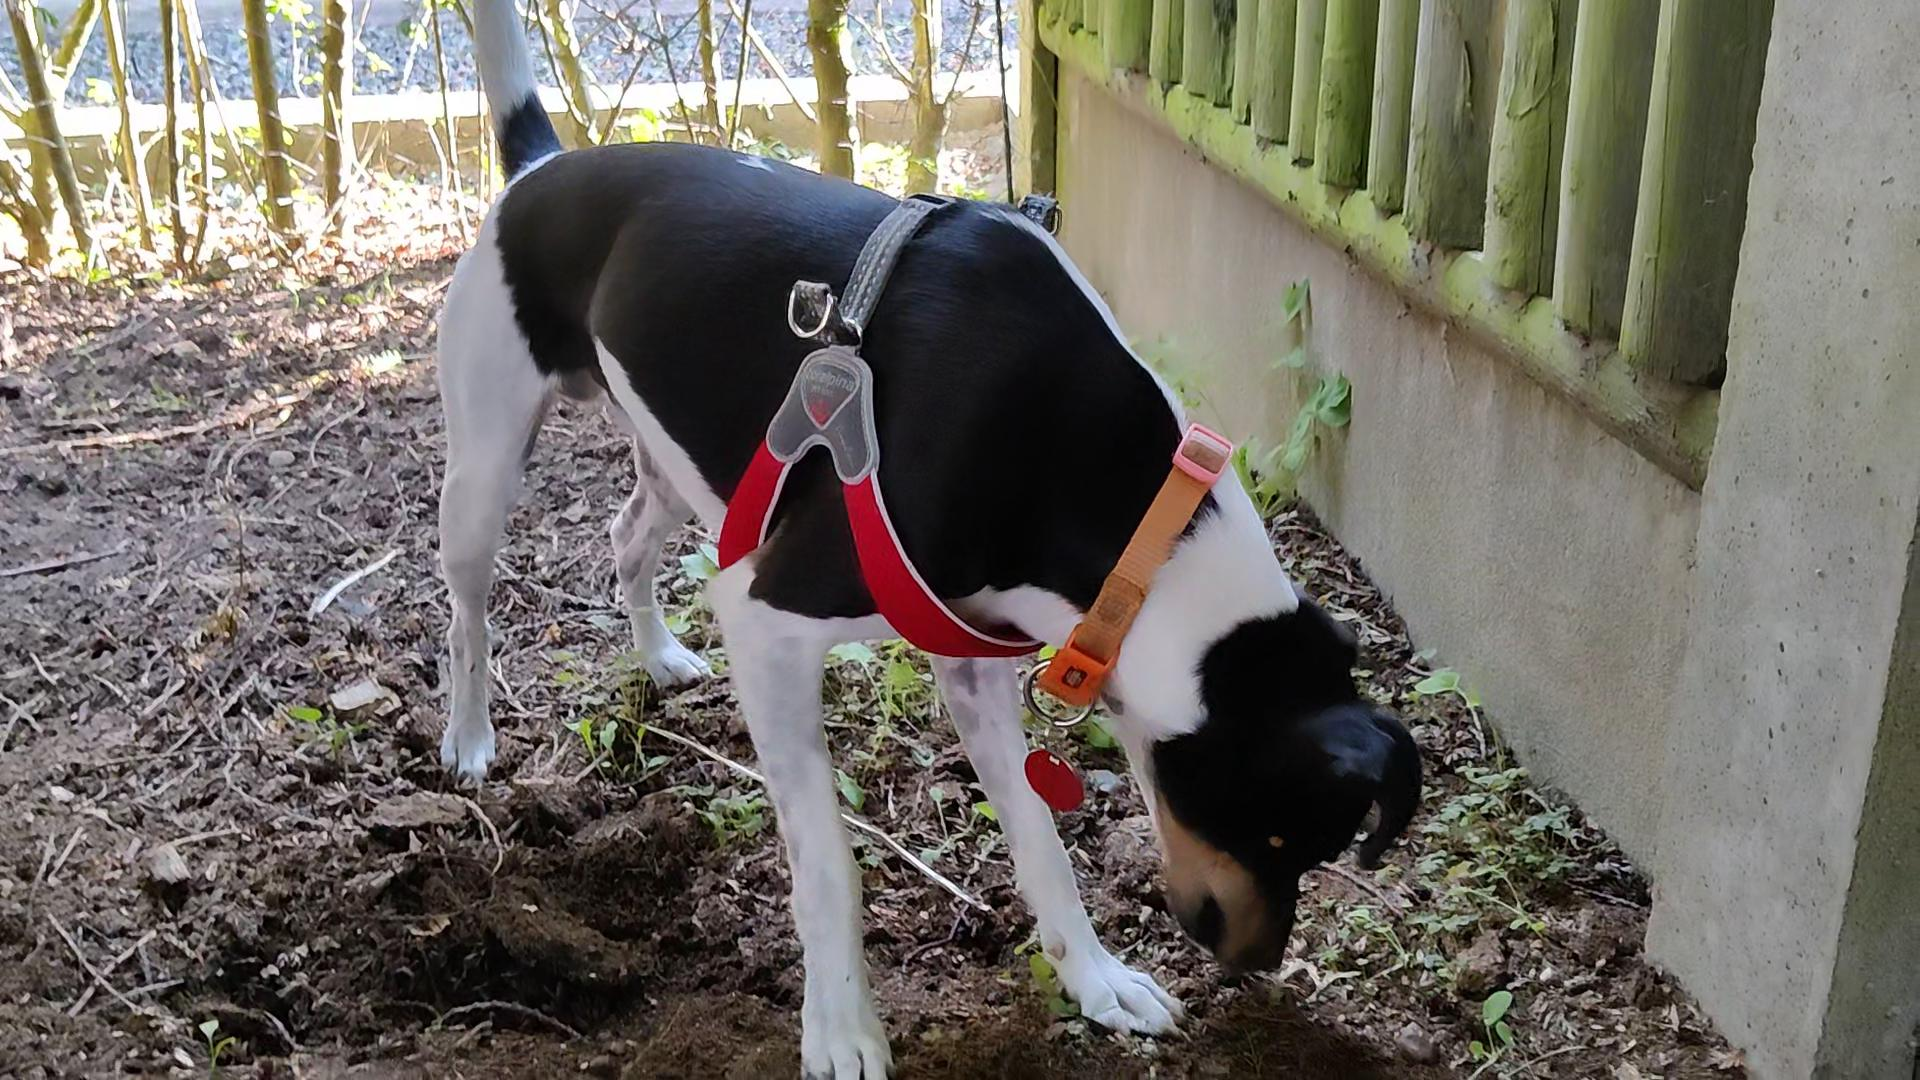Dog: (382, 0, 1445, 1080)
